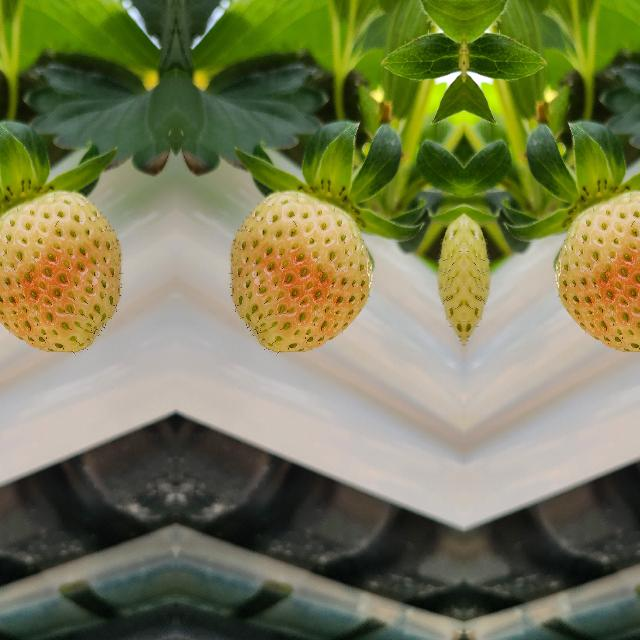Health_50: (228, 190, 372, 356), (0, 189, 122, 356), (553, 189, 640, 356)
